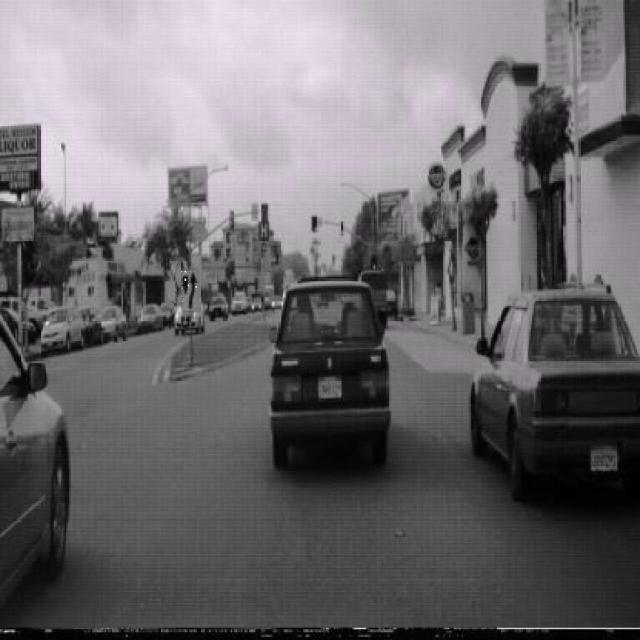keepRight: (178, 268, 200, 317)
